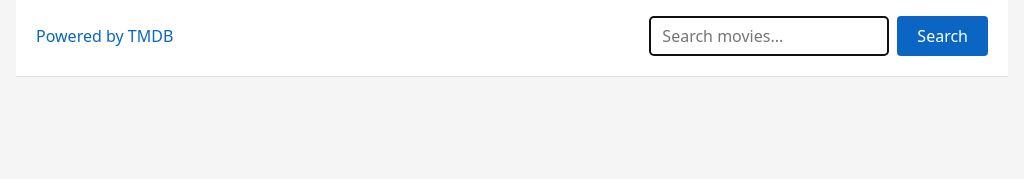
App › shows the error message when the request fails
Type "broken" into the field with placeholder "Search movies..." at [769, 36], box [649,16,889,56]
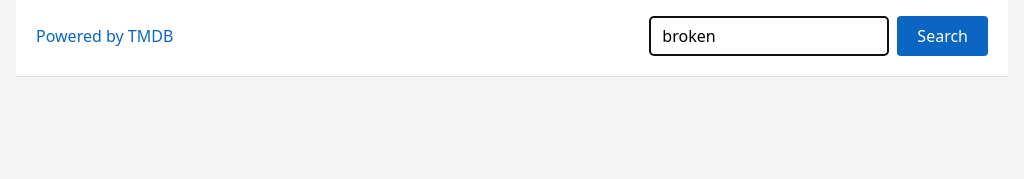
Submit the form "Search", box [649,16,988,56]
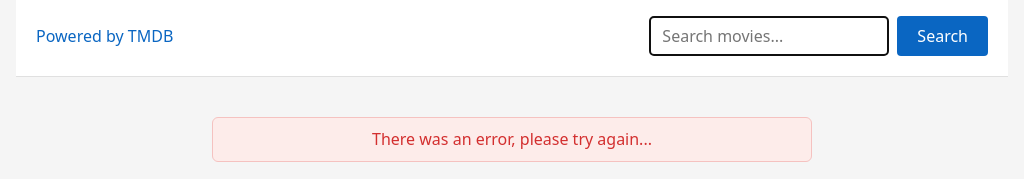
Expected: the text "There was an error, please try again..." is shown, [212,117,812,162]
